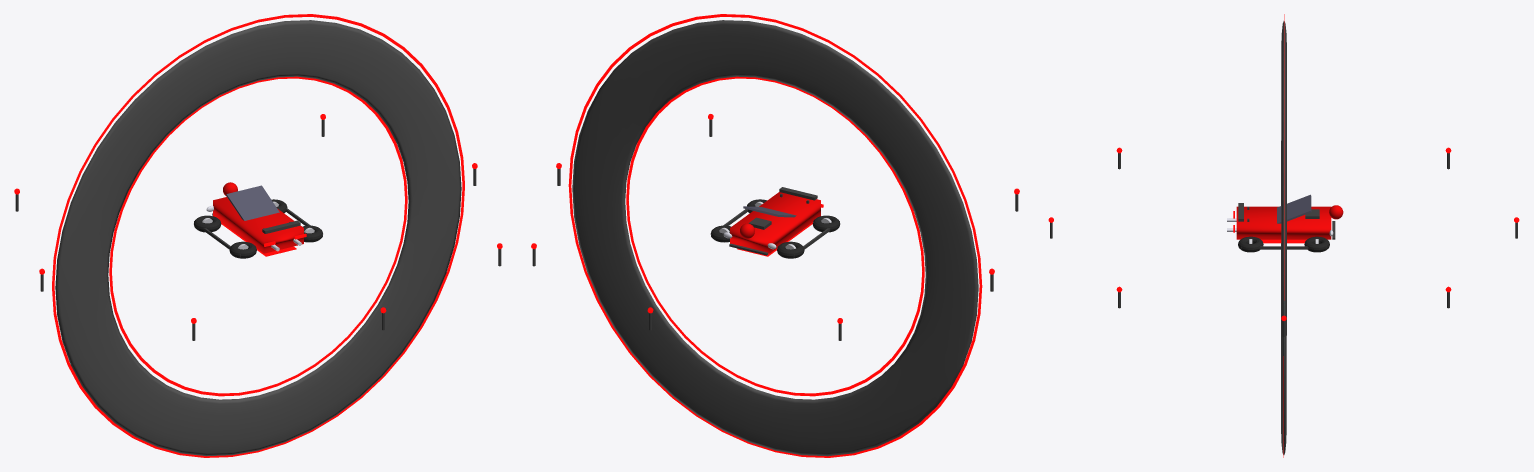
The model's file is mad-car.glb.
The picture shows the model from 3 angles, left to right: view 1: azimuth 30°, elevation 25°; view 2: azimuth 150°, elevation 25°; view 3: azimuth 270°, elevation 25°; orthographic projection. The views are drawn at different scales.
Visible parts, largest first — view 1: TrackRoad, TrackEdgeOuter, TrackEdgeInner, CarBody, Windshield; view 2: TrackRoad, TrackEdgeOuter, TrackEdgeInner, CarBody; view 3: TrackRoad, CarBody, Windshield.
Part boxes in pixels (left/top/right/bottom): TrackRoad: left=55, top=20, right=461, bottom=456; TrackEdgeOuter: left=52, top=14, right=464, bottom=457; TrackEdgeInner: left=109, top=76, right=407, bottom=396; CarBody: left=213, top=197, right=303, bottom=253; Windshield: left=226, top=185, right=279, bottom=220; TrackRoad: left=572, top=20, right=978, bottom=456; TrackEdgeOuter: left=568, top=14, right=982, bottom=457; TrackEdgeInner: left=626, top=76, right=924, bottom=396; CarBody: left=730, top=192, right=820, bottom=253; TrackRoad: left=1281, top=21, right=1286, bottom=454; CarBody: left=1236, top=206, right=1331, bottom=239; Windshield: left=1277, top=194, right=1311, bottom=223.
Size of the model in its own units: 9.92 by 9.36 by 9.92.
